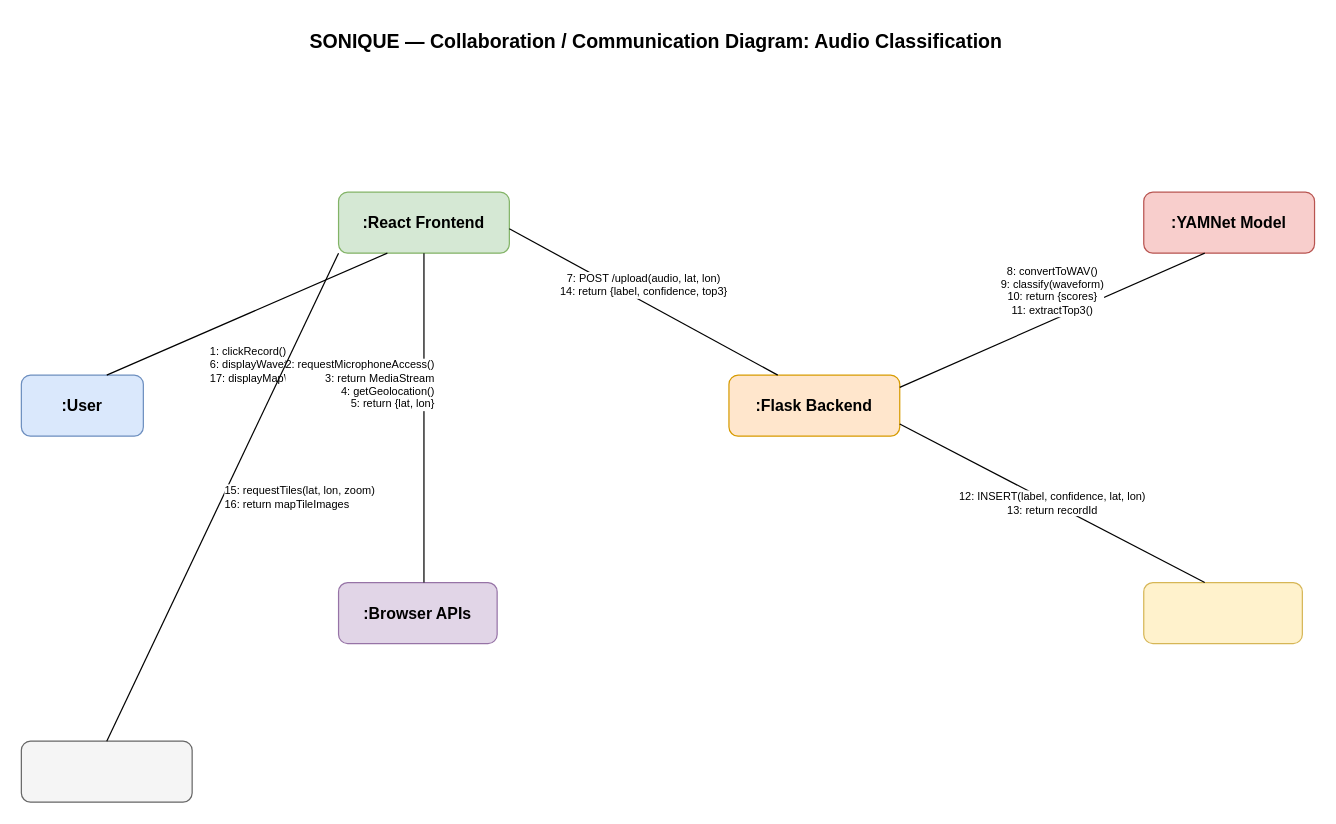
This 1336x824 diagram has some shape labels left out. Here are the shapes that lost their labels. From the top down, the centre of each, then its label:
[1222,612]: :SQLite DB
[106,771]: :OpenStreetMap
